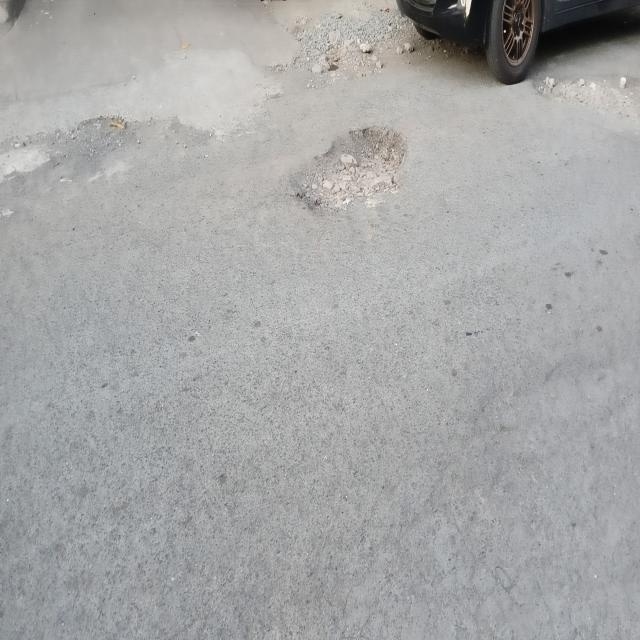pothole: (300, 92, 430, 258), (532, 55, 640, 127)
